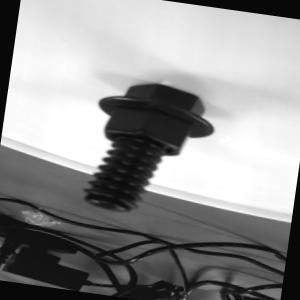parafuso: (79, 74, 219, 226)
